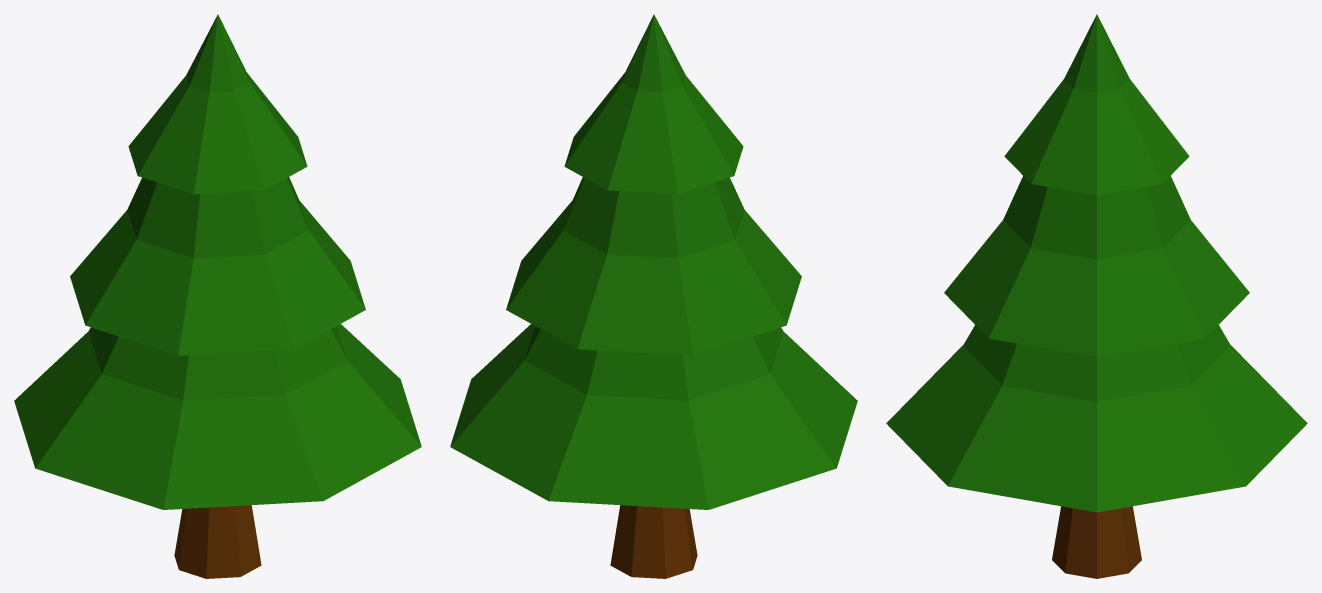
The model's file is arbre.fbx.
3 views of the same model, side by side, from view 1: azimuth 30°, elevation 25°; view 2: azimuth 150°, elevation 25°; view 3: azimuth 270°, elevation 25° (orthographic).
Visible parts, largest first — view 1: Sapin, Tronc; view 2: Sapin, Tronc; view 3: Sapin, Tronc.
Part boxes in pixels (x1=…): Sapin: x1=14, y1=14, x2=421, y2=509; Tronc: x1=174, y1=505, x2=261, y2=578; Sapin: x1=450, y1=14, x2=857, y2=509; Tronc: x1=610, y1=505, x2=697, y2=578; Sapin: x1=886, y1=14, x2=1307, y2=512; Tronc: x1=1052, y1=506, x2=1141, y2=578.
Bounding box in the file's own units: 280 × 400 × 280.
